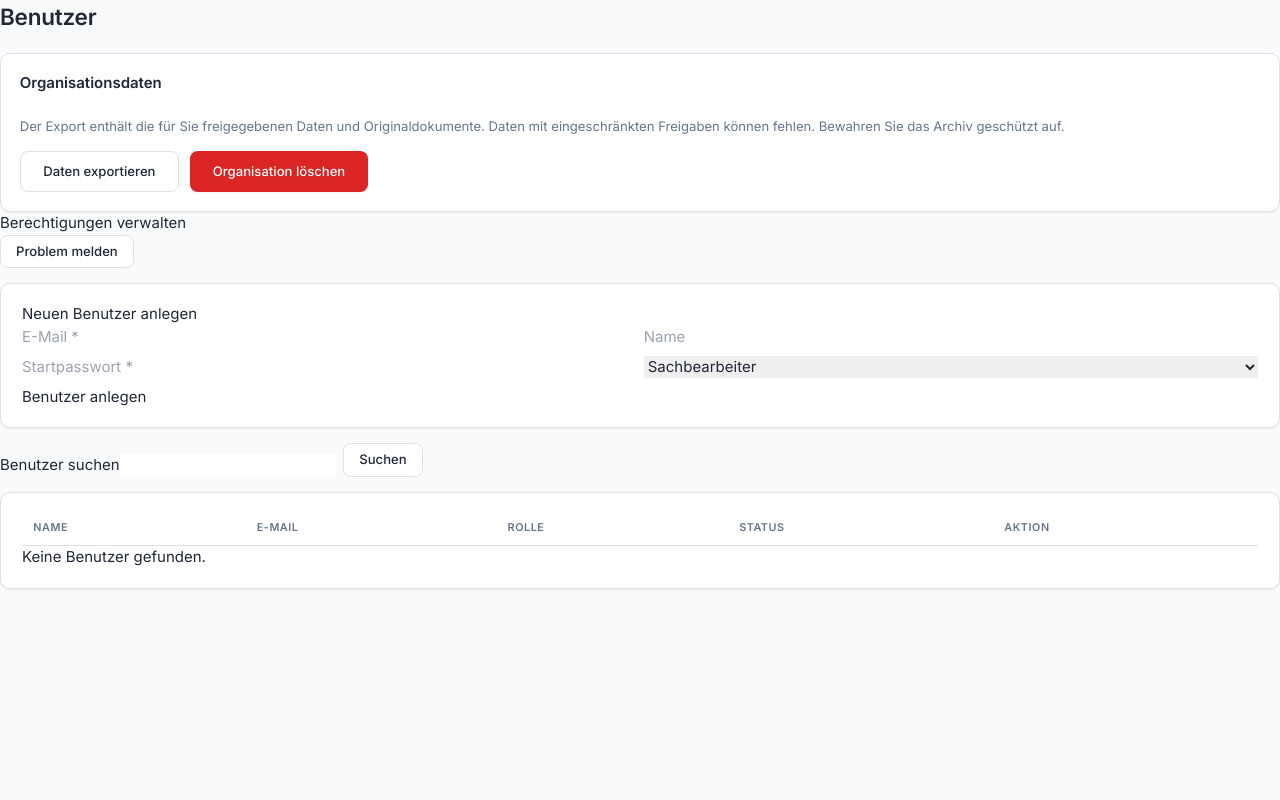
Test: manual problem reports › shows a failed download in German and lets the administrator retry: {"name":"ApiError","status":503}
The image size is (1280, 800).
Click the button "Problem melden".
click(67, 251)  # box [0, 234, 134, 268]
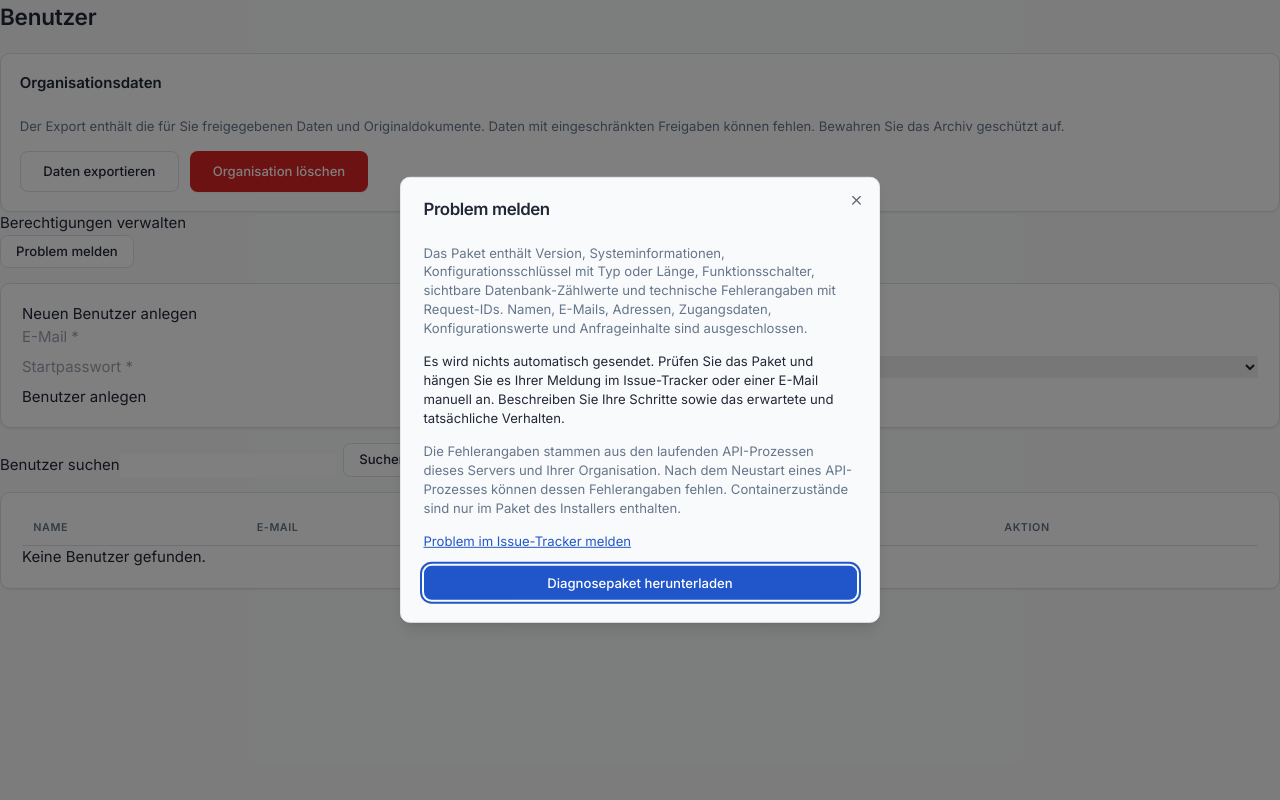
Click the button "Diagnosepaket herunterladen".
click(640, 583)  # box [424, 566, 856, 600]
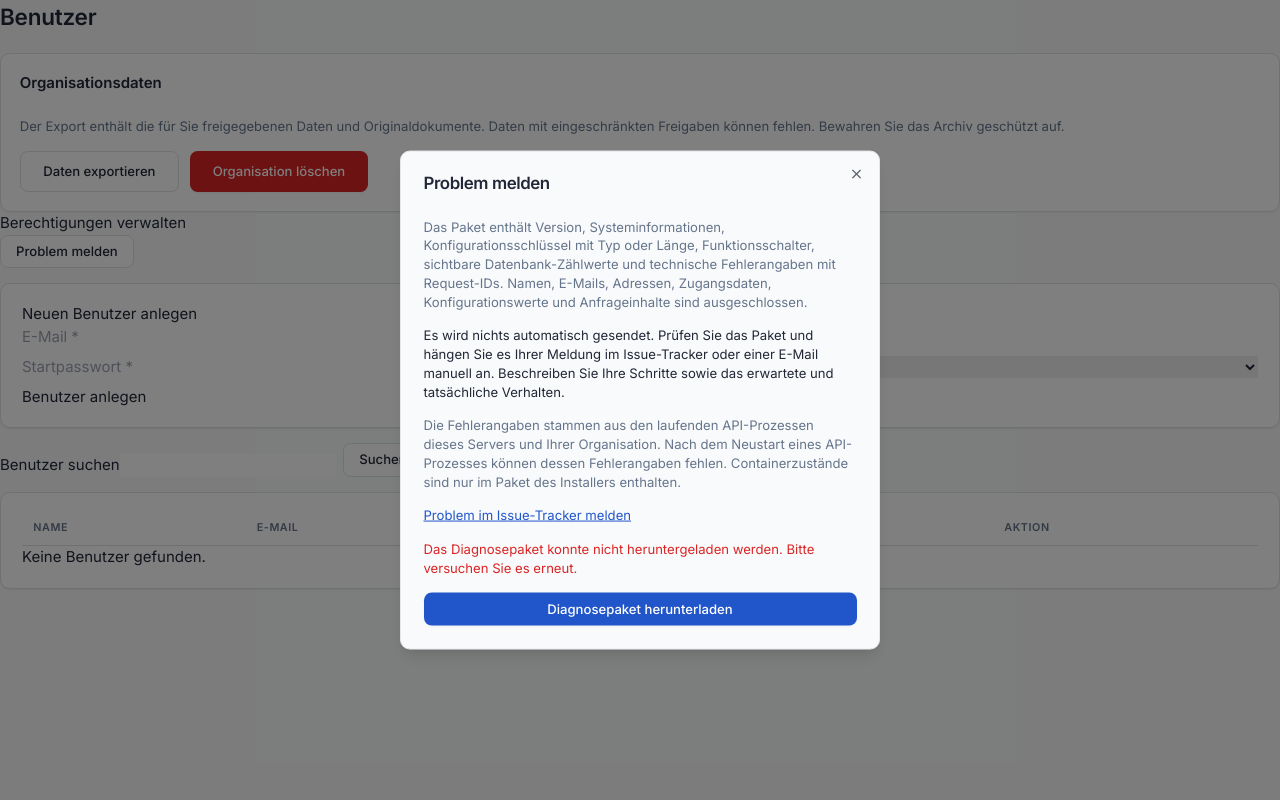
Expected: the button "Diagnosepaket herunterladen" is enabled, [424, 592, 856, 626]
Expected: the message shows "Das Diagnosepaket konnte nicht heruntergeladen werden. Bitte versuchen Sie es erneut.", [424, 541, 814, 576]
